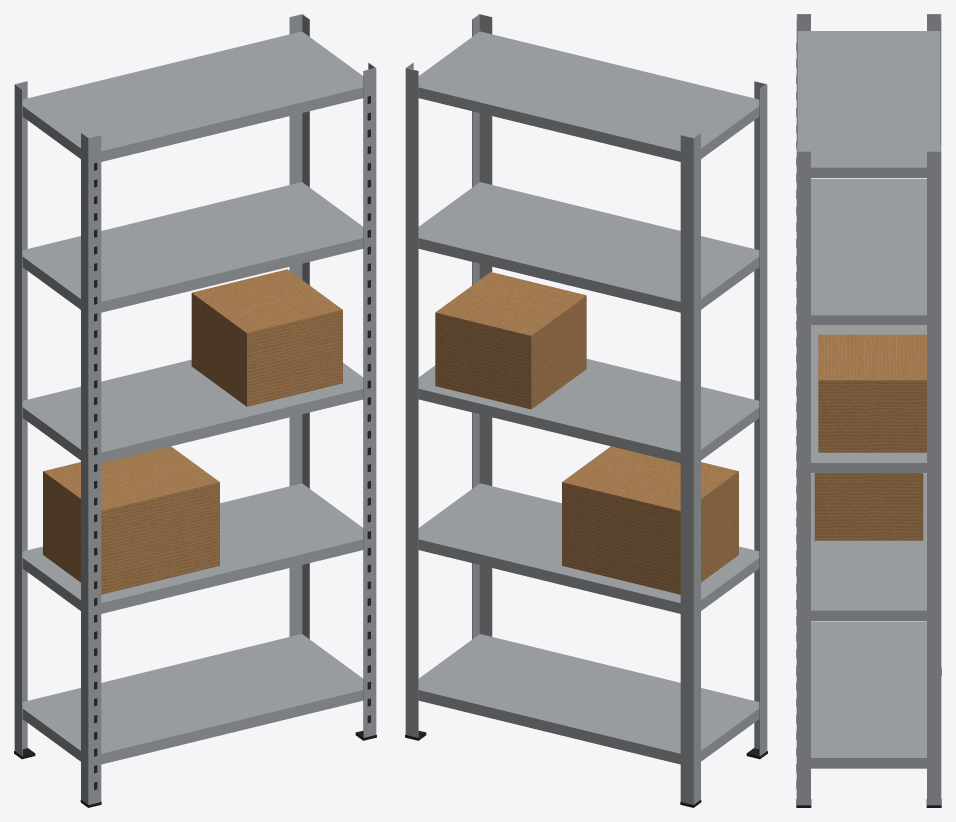
Rendered from storage-shelf.glb.
3 views of the same model, side by side, from view 1: azimuth 30°, elevation 25°; view 2: azimuth 150°, elevation 25°; view 3: azimuth 270°, elevation 25° (orthographic). The views are drawn at different scales.
Visible parts, largest first — view 1: Angle posts 40 x 40, Storage box, Keyhole slot rows; view 2: Angle posts 40 x 40, Storage box; view 3: Angle posts 40 x 40, Storage box, Keyhole slot rows.
Boxes of the visible parts, x1,y1,x2,y2 form: Angle posts 40 x 40: (14, 14, 376, 804); Storage box: (43, 269, 342, 594); Keyhole slot rows: (94, 96, 370, 789); Angle posts 40 x 40: (405, 14, 767, 804); Storage box: (435, 272, 738, 594); Angle posts 40 x 40: (796, 14, 941, 805); Storage box: (814, 334, 926, 540); Keyhole slot rows: (796, 43, 796, 788).
Size of the model in its own units: 0.902 by 2 by 0.402.
4 materials, 1 textured.
